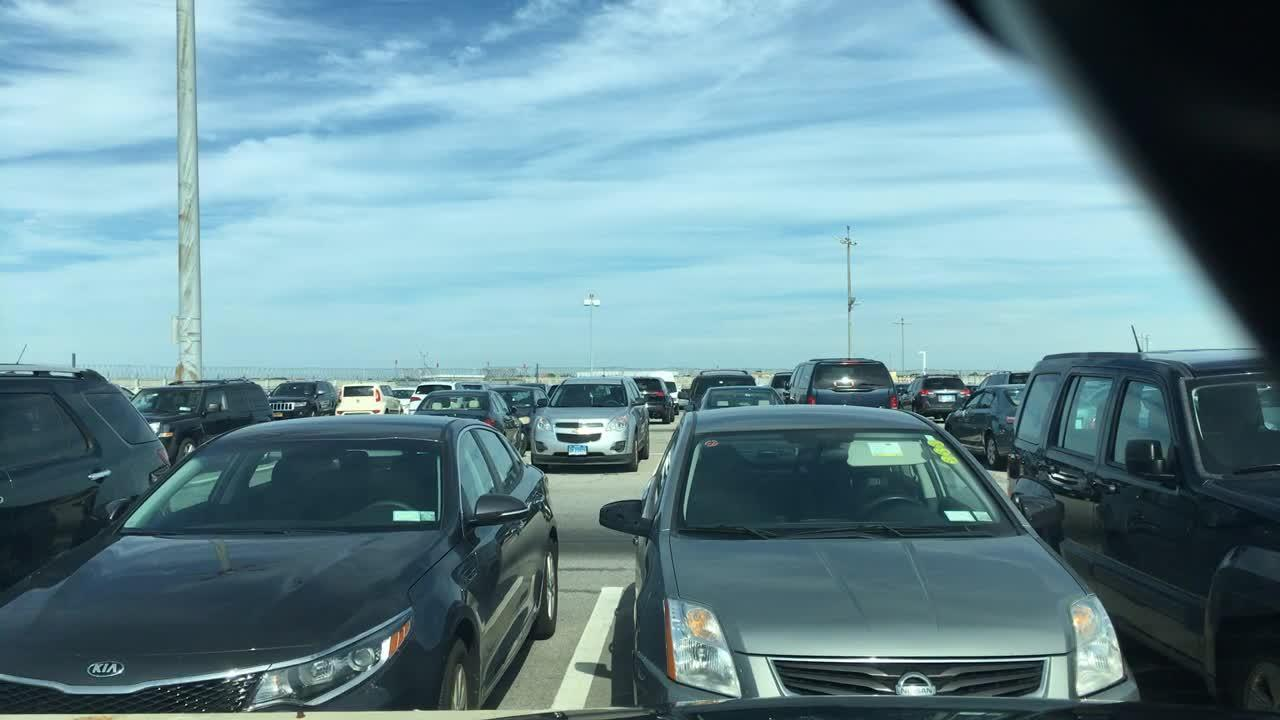kia: (89, 652, 126, 686)
